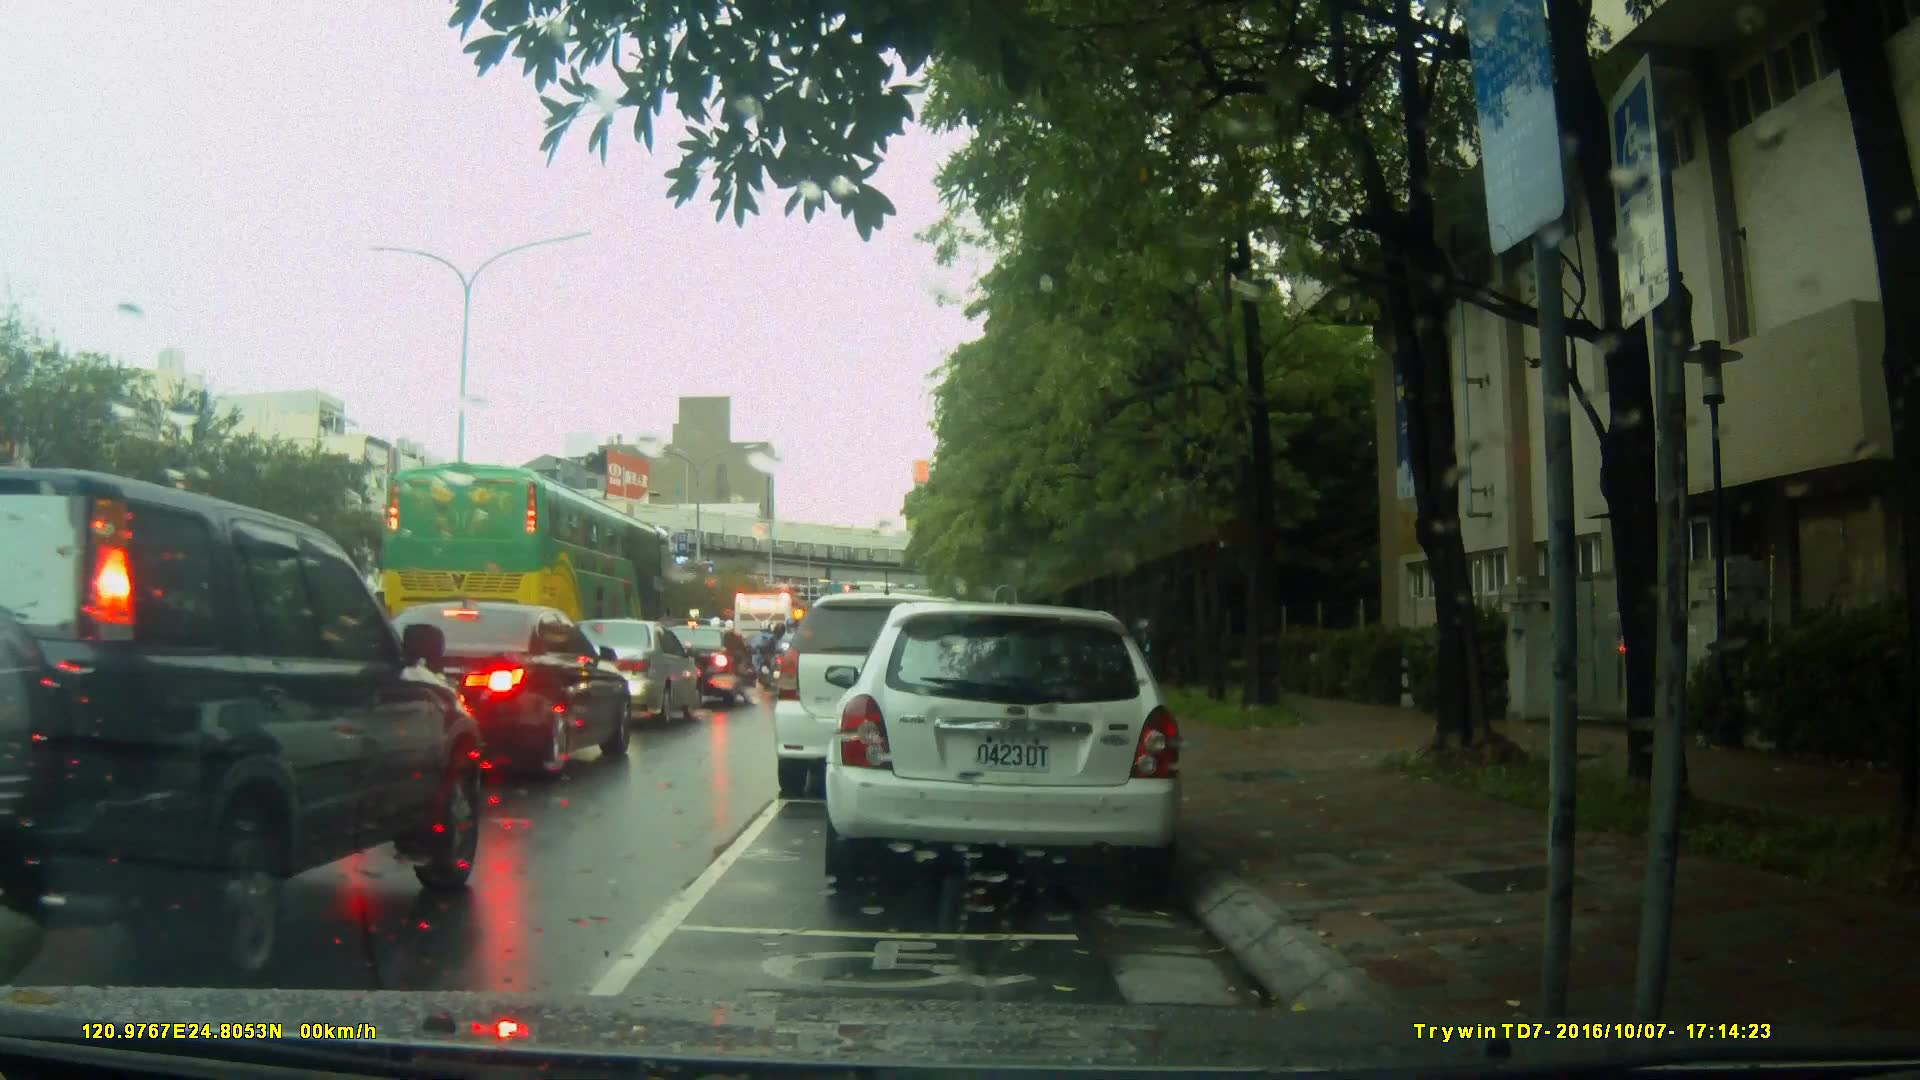rider: (775, 618, 804, 704)
vehicle: (1, 462, 492, 983), (831, 592, 1196, 897), (375, 462, 671, 659), (335, 601, 636, 785), (777, 598, 999, 802), (542, 618, 705, 730), (656, 624, 761, 712)
